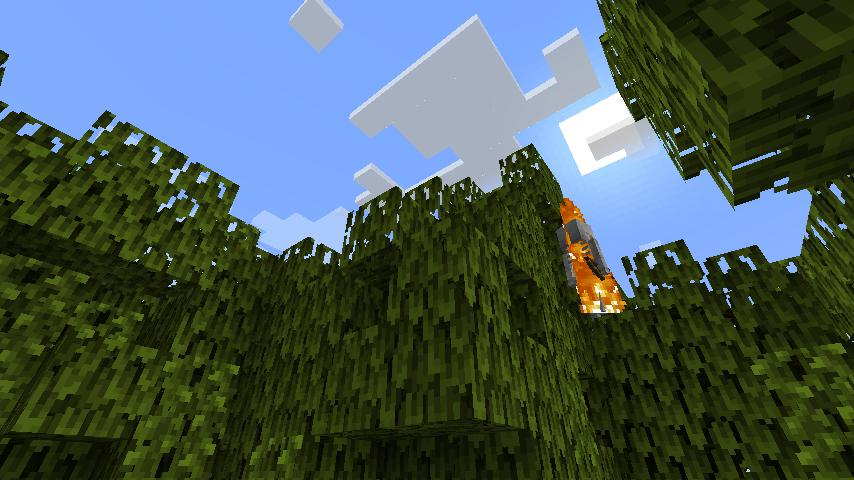skeleton: (552, 220, 616, 314)
